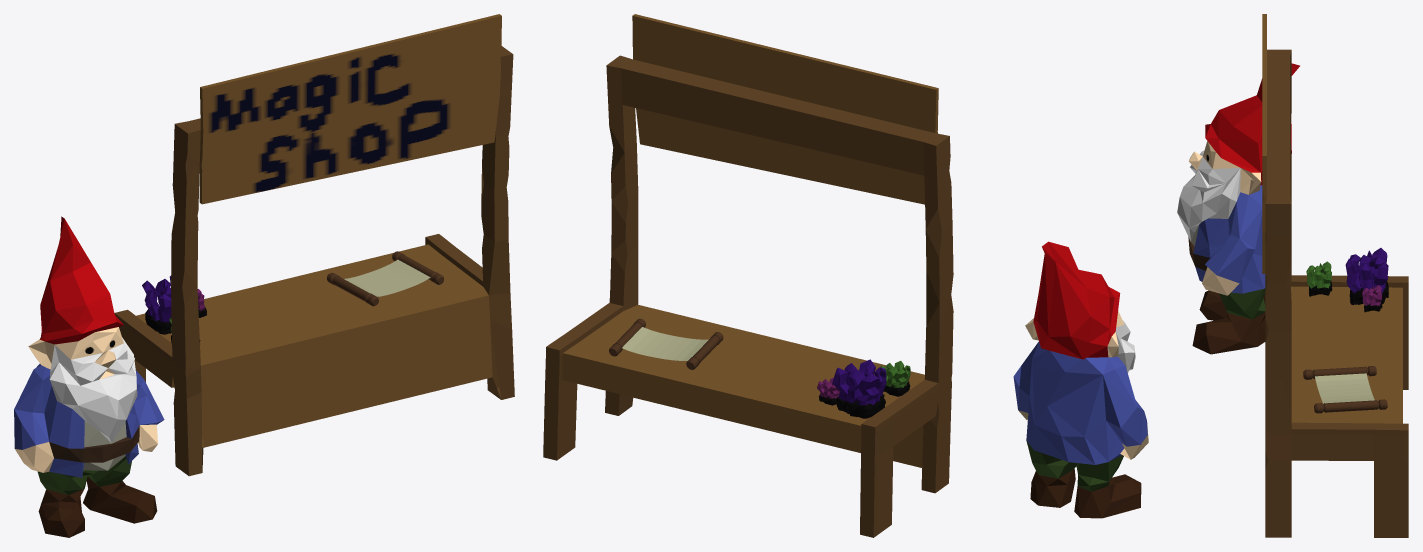
Rendered from gnome_magic_shop 1.fbx.
3 views of the same model, side by side, from view 1: azimuth 30°, elevation 25°; view 2: azimuth 150°, elevation 25°; view 3: azimuth 270°, elevation 25° (orthographic). The views are drawn at different scales.
Visible parts, largest first — view 1: Cube.001, gnomo2, Cylinder.001, Cube; view 2: Cube.001, gnomo2, Cylinder.001, Cube, Cube.003; view 3: Cube.001, gnomo2, Cylinder.001, Cube, Cube.003, Cube.002.
Boxes of the visible parts, bbox=[...] form: Cube.001: bbox=[114, 14, 514, 476]; gnomo2: bbox=[14, 216, 164, 537]; Cylinder.001: bbox=[327, 251, 443, 306]; Cube: bbox=[142, 275, 171, 334]; Cube.001: bbox=[543, 14, 953, 537]; gnomo2: bbox=[1013, 241, 1148, 518]; Cylinder.001: bbox=[609, 318, 723, 369]; Cube: bbox=[832, 359, 886, 418]; Cube.003: bbox=[881, 361, 910, 396]; Cube.001: bbox=[1262, 14, 1408, 537]; gnomo2: bbox=[1177, 63, 1299, 354]; Cylinder.001: bbox=[1303, 366, 1387, 413]; Cube: bbox=[1345, 248, 1388, 304]; Cube.003: bbox=[1306, 261, 1332, 296]; Cube.002: bbox=[1362, 285, 1382, 312].
Bounding box in the file's own units: 70.62 × 51.26 × 28.7.
Materials: 17 (2 with a texture image).
